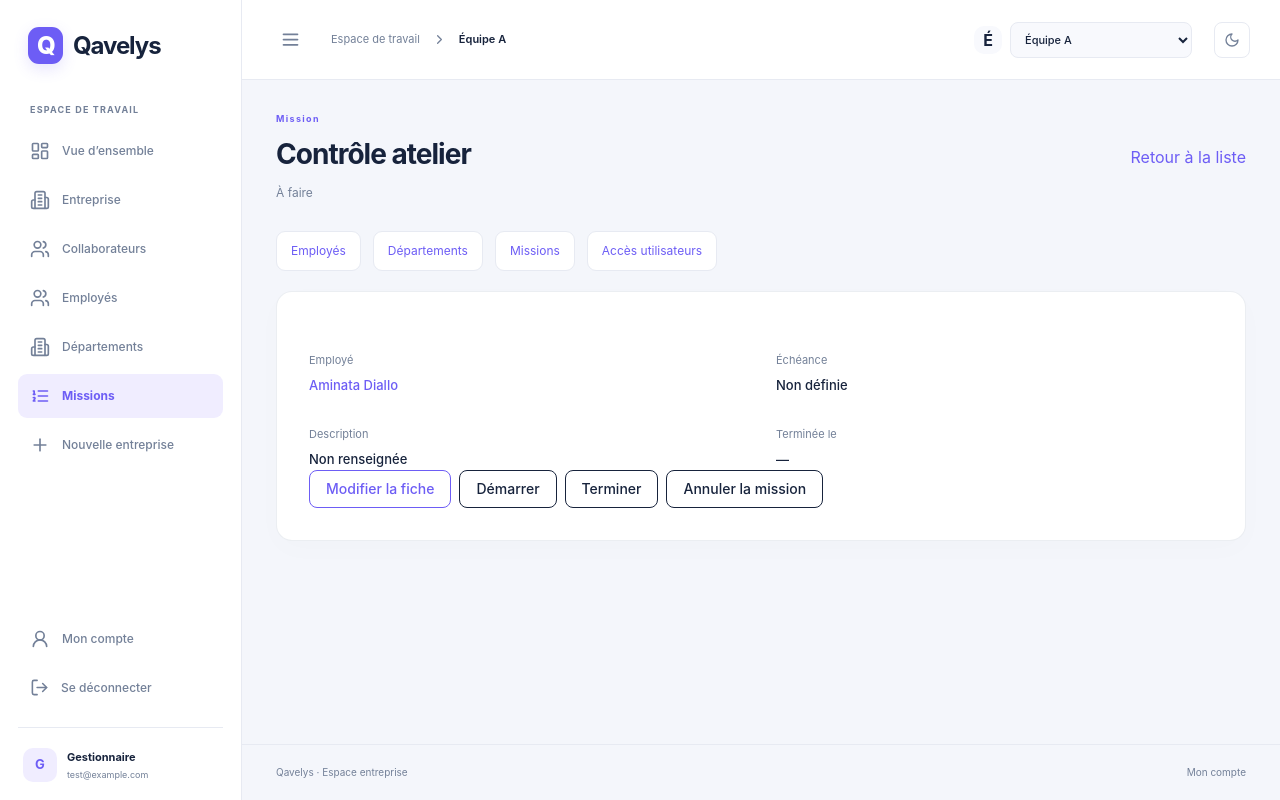
Test: applique les transitions de mission avec confirmation et version attendue
This screenshot has width=1280, height=800.
Click the button "Démarrer" at (508, 489), box [460,470,557,508]
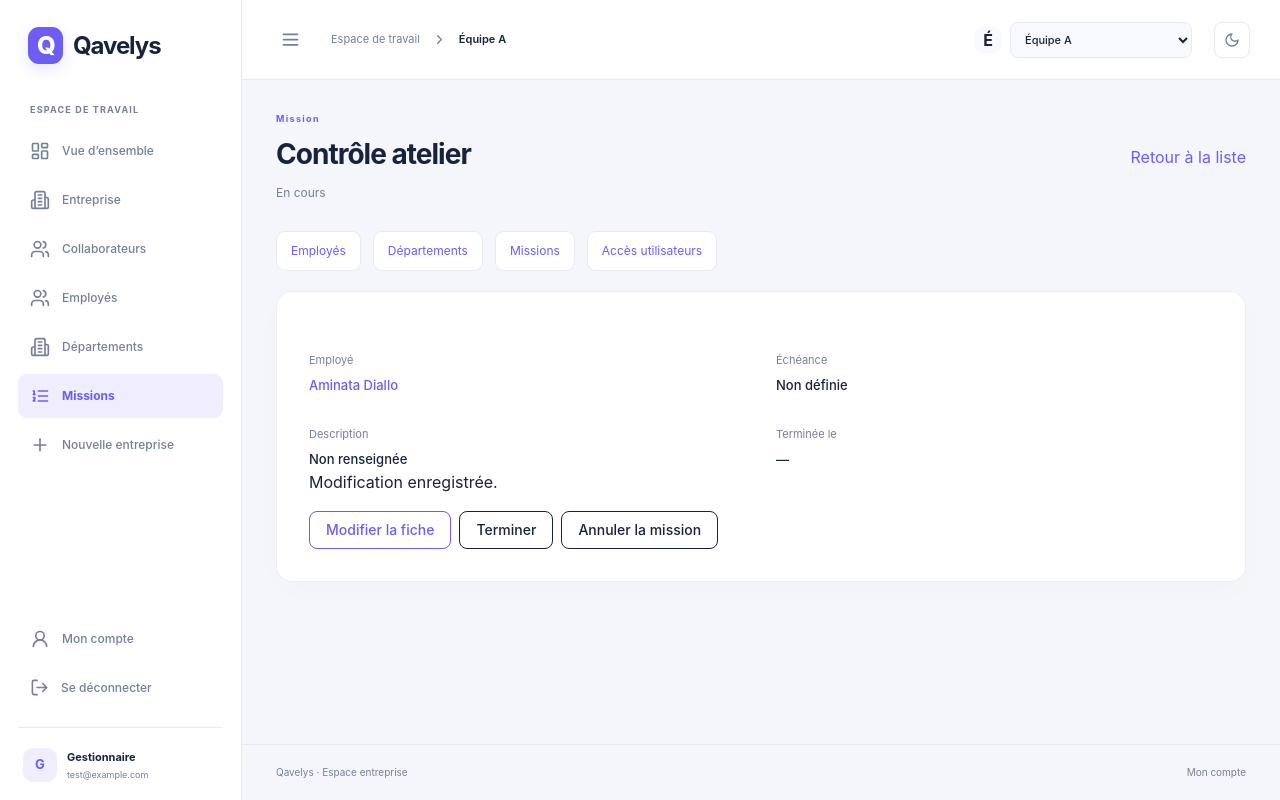
Result: the text "En cours" is shown at [276,185,326,200]
Click the button "Terminer" at (506, 530), box [460,511,553,549]
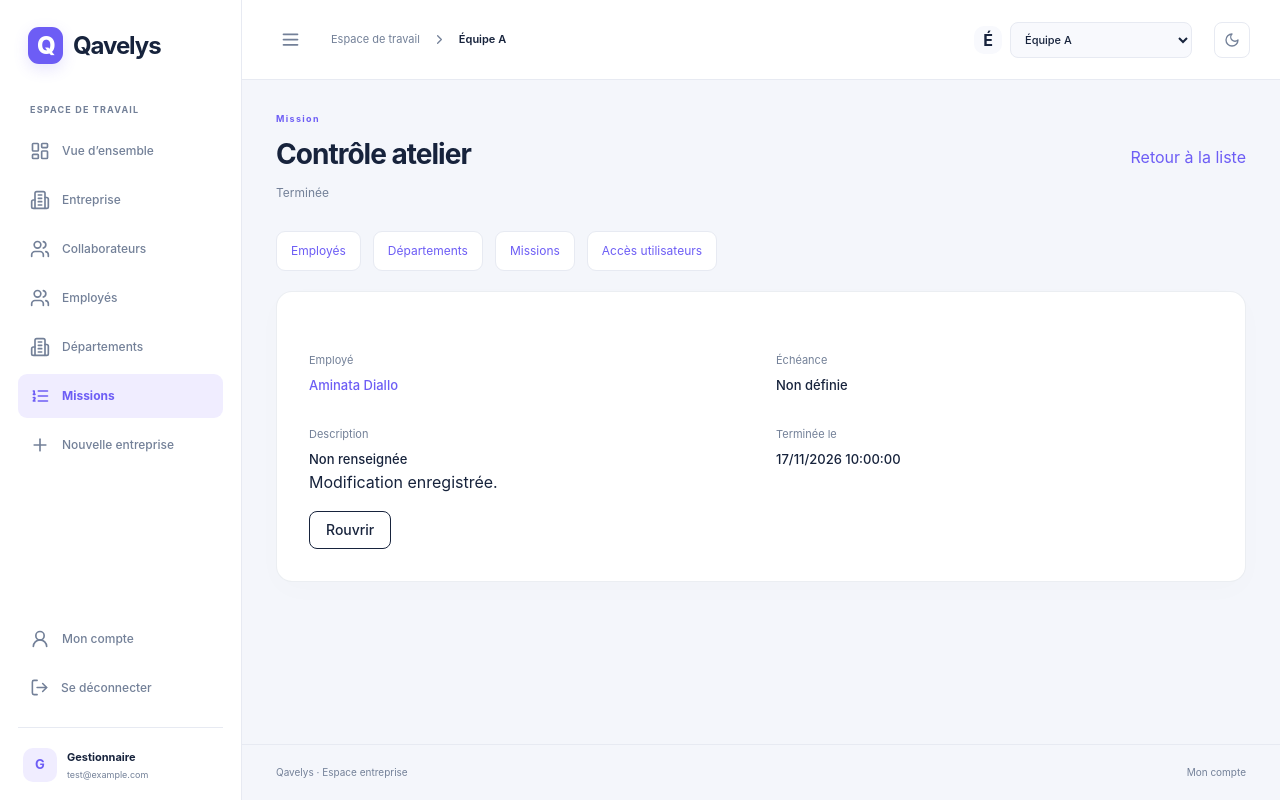
Result: the text "Terminée" is shown at [276,185,329,200]
